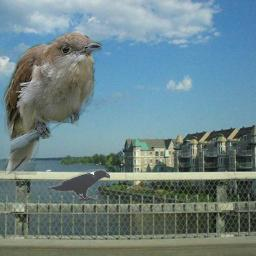Crow: (47, 169, 110, 201)
Cuckoo: (1, 31, 102, 175)
